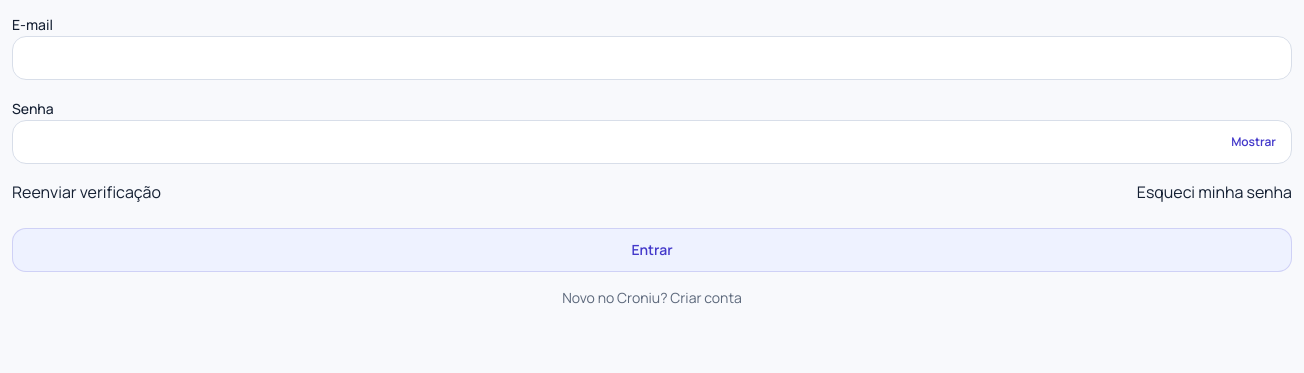
Test case: Auth forms › shows API error on login failure
Step 1. Type "a@b.com" into the field labelled "E-mail" → (652,58), box 12,36 -> 1292,80
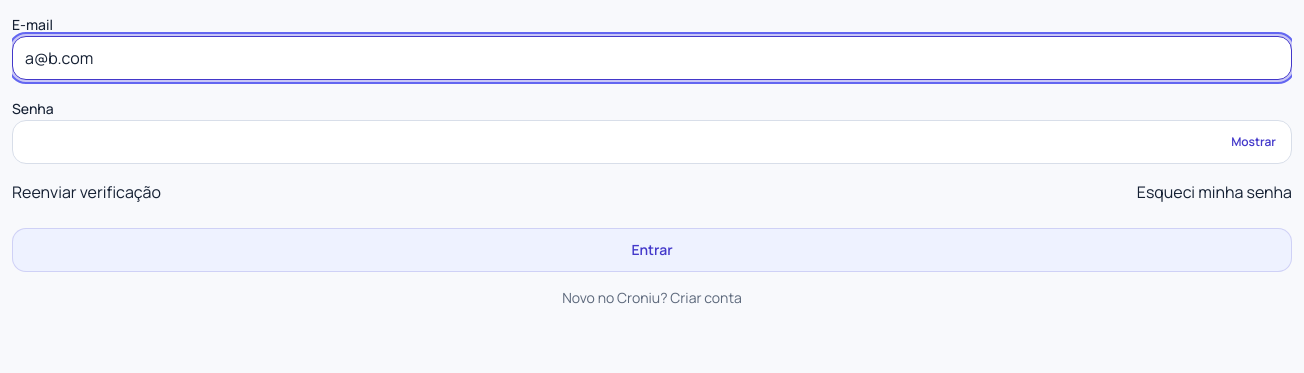
Step 2. Type "senha12345" into the password field labelled "Senha" → (652,142), box 12,120 -> 1292,164
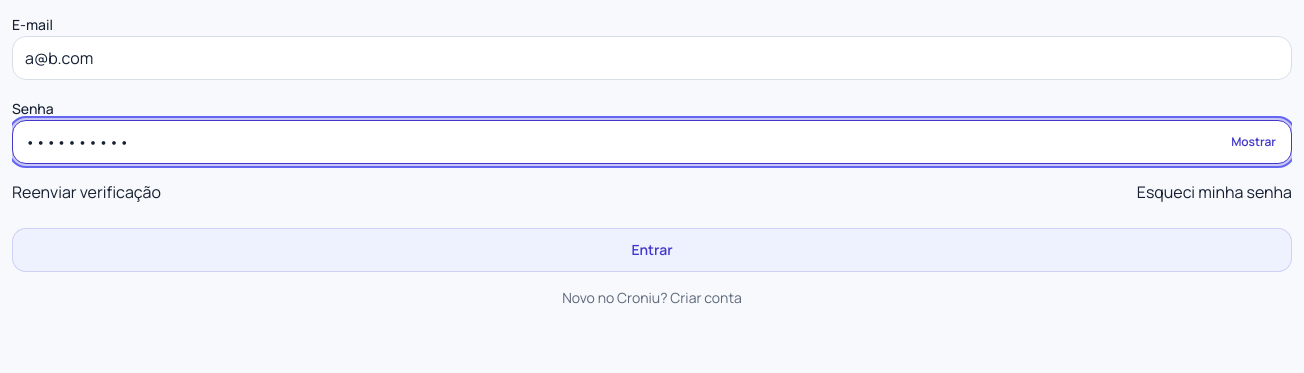
Step 3. Click the button "Entrar" → (652,250), box 12,228 -> 1292,272
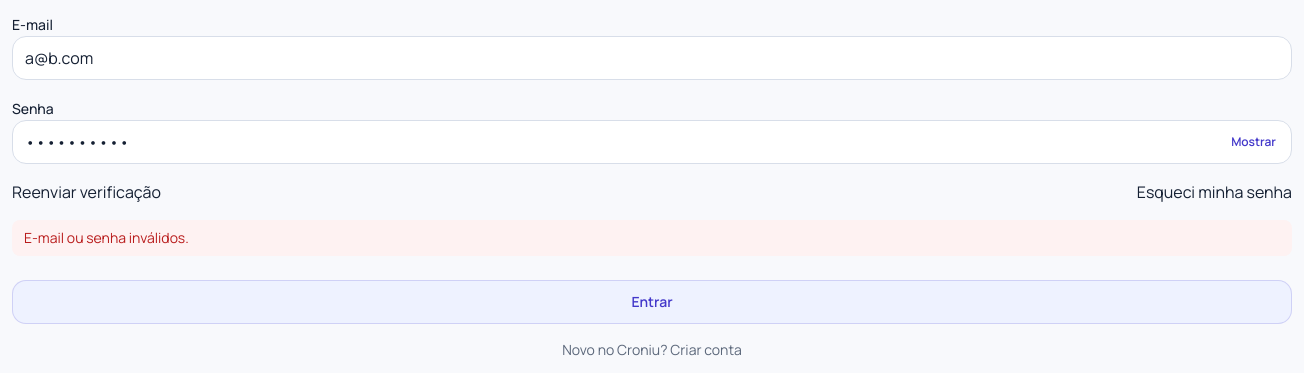
Expected: the link "Reenviar verificação" is shown, 12,180 -> 161,204
Result: the message reads "E-mail ou senha inválidos." at 24,228 -> 189,247
